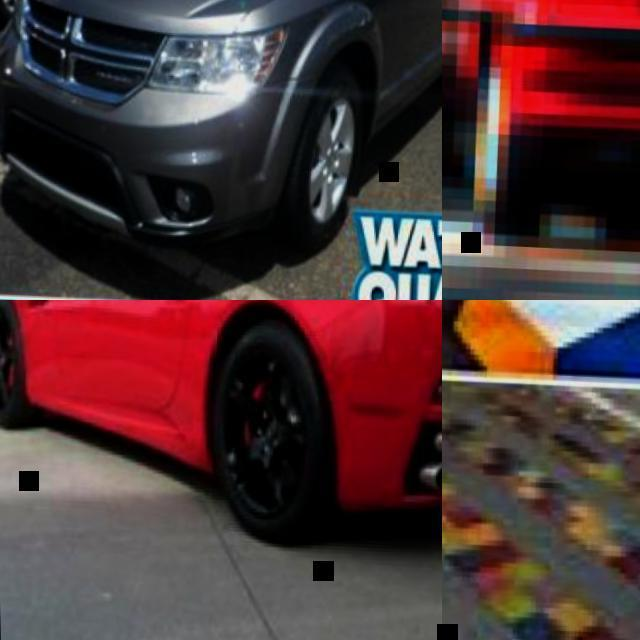car: (2, 0, 397, 251)
